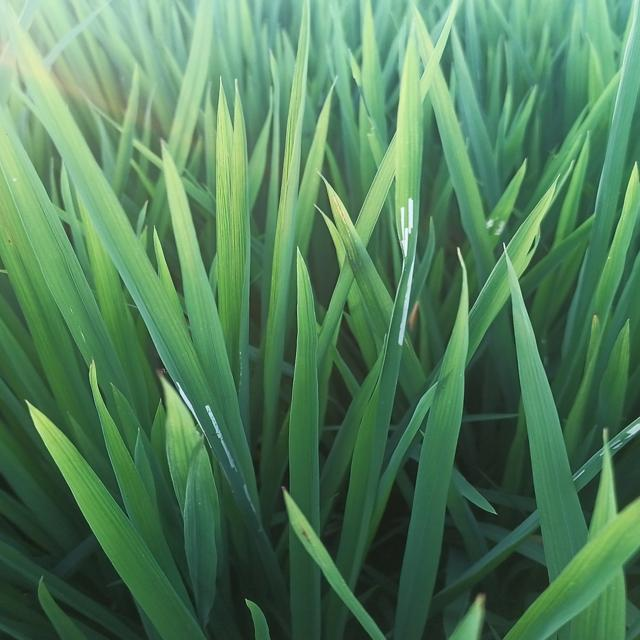brown plant hopper: (169, 372, 262, 522), (386, 193, 427, 350), (572, 410, 640, 495)
insects: (296, 524, 314, 545)
